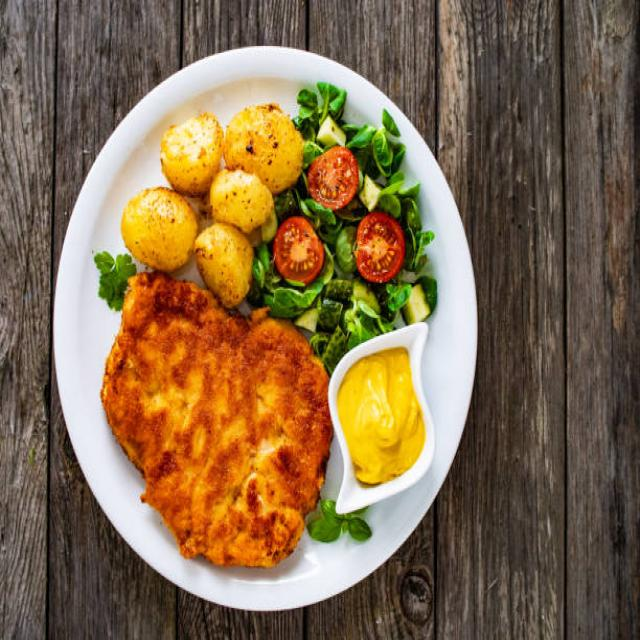Frango: (100, 273, 332, 569)
